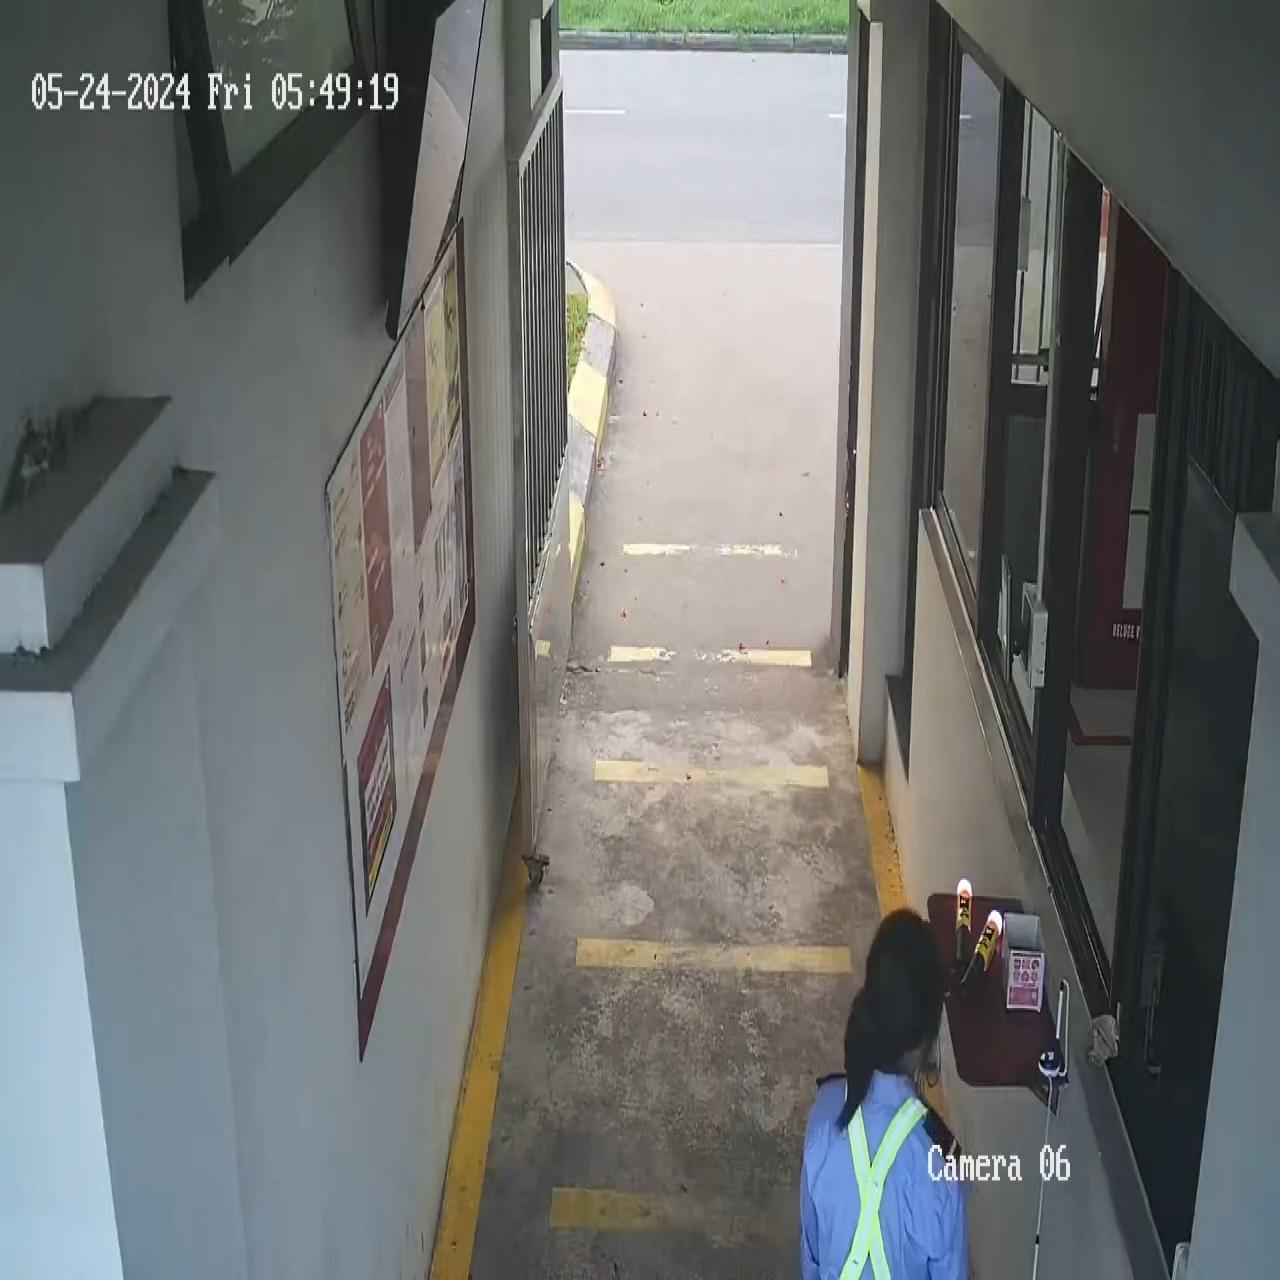breathalyzer: (965, 907, 1009, 988), (947, 869, 974, 969)
guard: (797, 905, 972, 1276)
